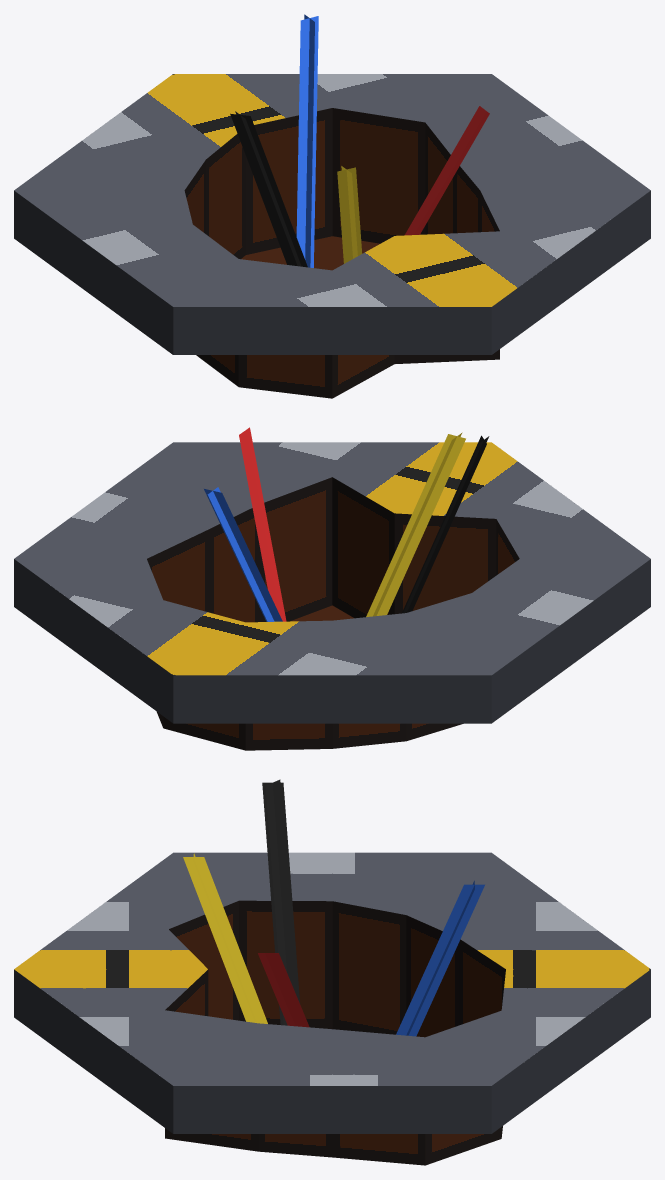
File: turret-mount-broken.obj
The picture shows the model from 3 angles, top to bottom: view 1: azimuth 30°, elevation 25°; view 2: azimuth 150°, elevation 25°; view 3: azimuth 270°, elevation 25°; orthographic projection.
Bounding box in the file's own units: 0.3118 × 0.1593 × 0.36.
